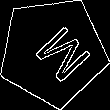M_SW: (19, 17, 87, 86)
